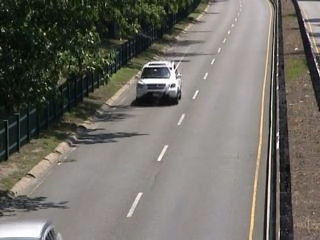car: (132, 56, 188, 108)
